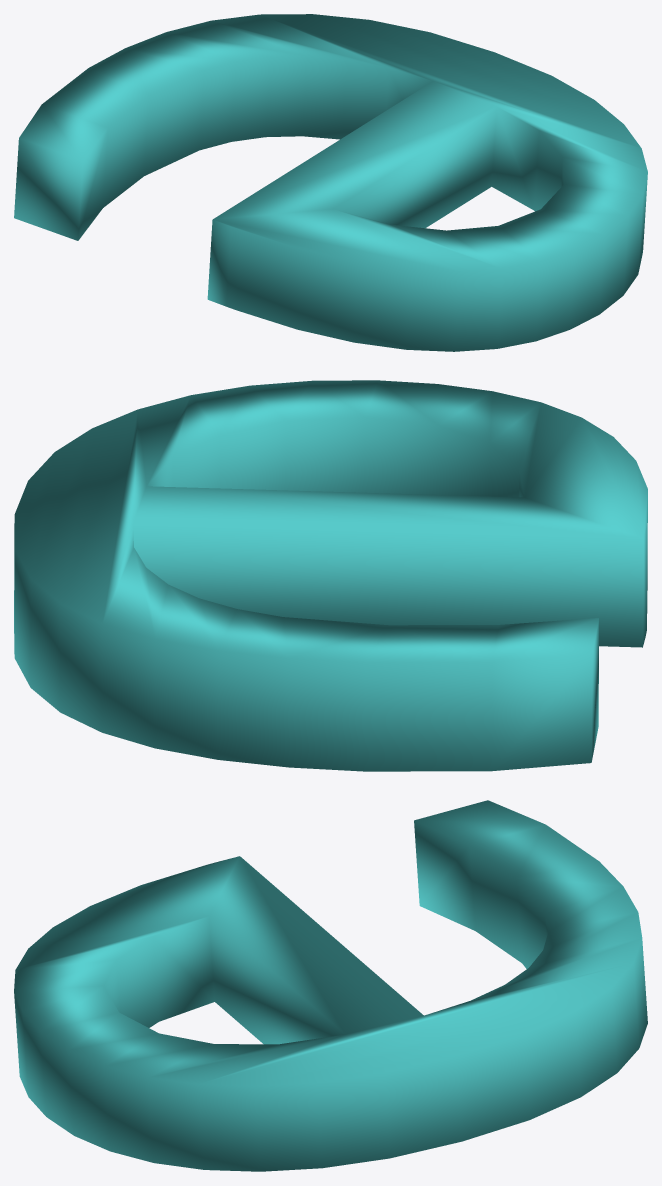
File: original-13.obj
3 renders of one model, top to bottom at view 1: azimuth 30°, elevation 25°; view 2: azimuth 150°, elevation 25°; view 3: azimuth 270°, elevation 25°, orthographic. The views are drawn at different scales.
Parts seen in each view (by area): view 1: mesh14/mesh14-geometry#mesh14-geometry; view 2: mesh14/mesh14-geometry#mesh14-geometry; view 3: mesh14/mesh14-geometry#mesh14-geometry.
Boxes of the visible parts, <box> form: mesh14/mesh14-geometry#mesh14-geometry: <box>14,14,647,351</box>; mesh14/mesh14-geometry#mesh14-geometry: <box>14,380,647,771</box>; mesh14/mesh14-geometry#mesh14-geometry: <box>14,800,647,1171</box>.
Size of the model in its own units: 0.0747 by 0.0169 by 0.0774.
